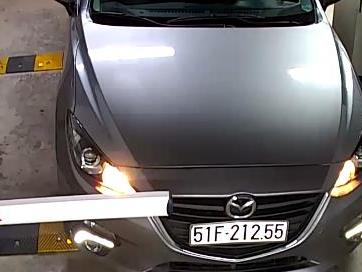number: (190, 220, 289, 246)
